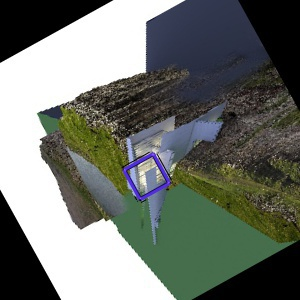square: (122, 151, 173, 203)
